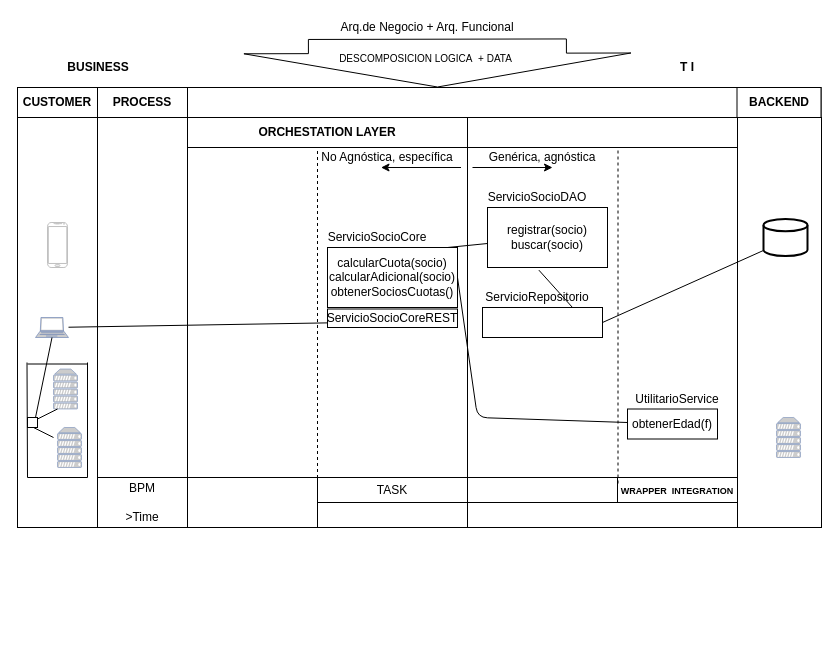
Some shapes in this 839 by 648 pixel diagram are drawn without their labels. Here are the shapes that lost their labels. From the top down, the centre of each, then its label:
At (x=462, y=102): "SERVICE INTERFACE LAYER".
At (x=602, y=132): "BASIC SERVICE LAYER".
At (x=542, y=322): "crud()".
At (x=252, y=502): "BPEL".
At (x=542, y=489): "ENTITY".
At (x=527, y=515): "CONTROLLER HYBRID UTILITY".
